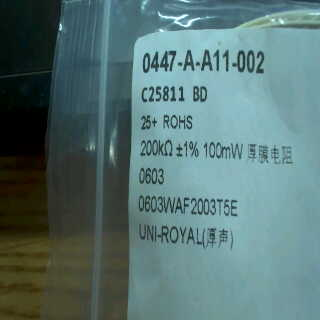200kR: (134, 136, 174, 160)
